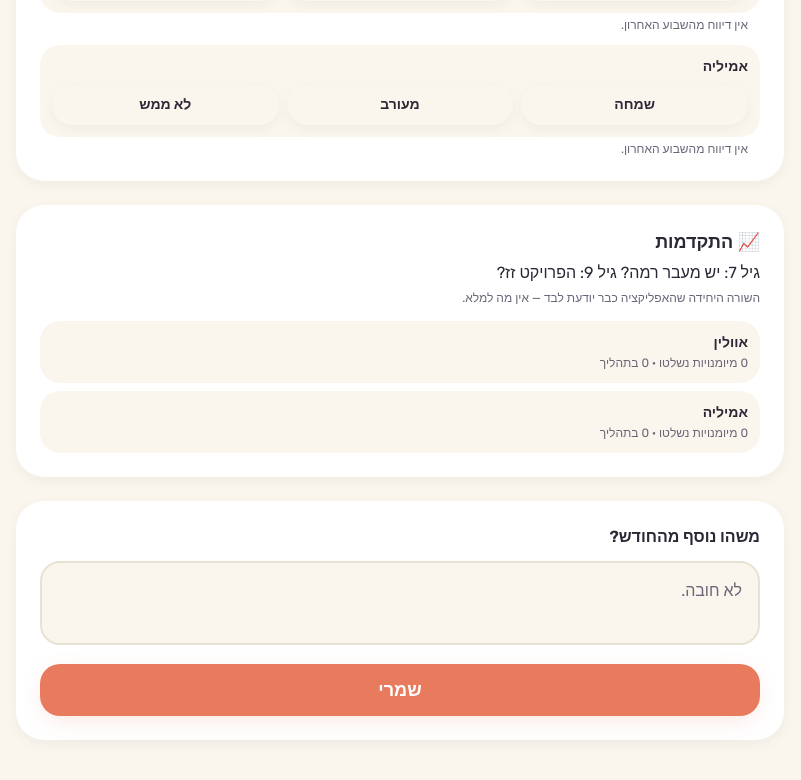
Test: <ParentFoundationPage> — מילוי ושמירה › אחרי שמירה הכפתור מציע לעדכן, לא לשמור מחדש
(page scrolled)
Click the button "שמרי" at point(400, 690), box [40, 664, 760, 716]
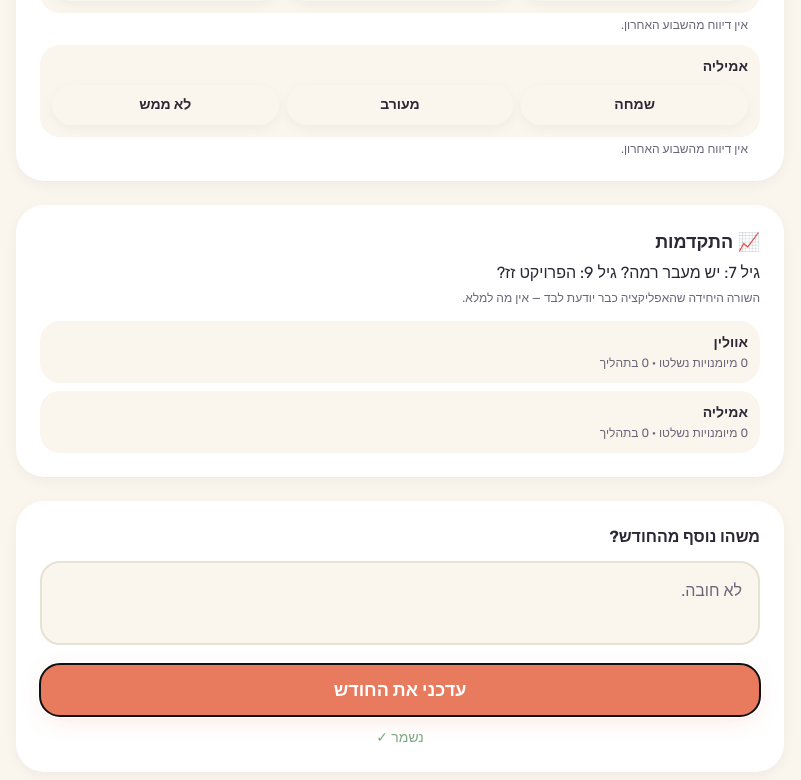
Check: the button "עדכני את החודש" is shown, box [40, 664, 760, 716]
